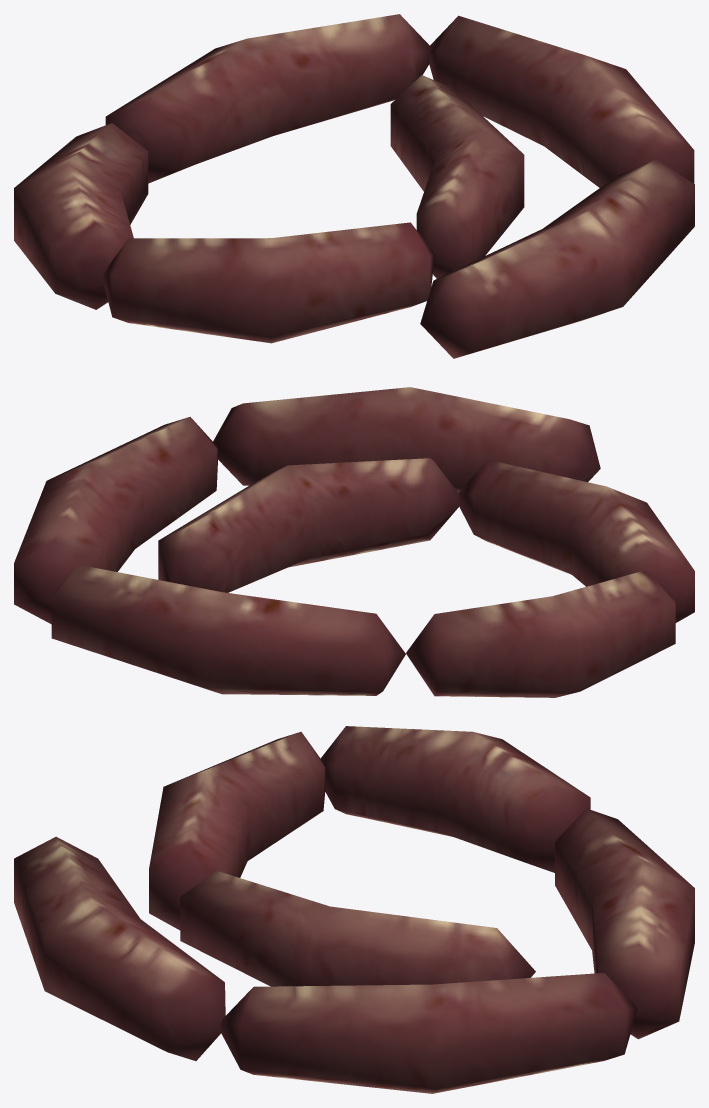
File: sausages2.fbx
The picture shows the model from 3 angles, top to bottom: view 1: azimuth 30°, elevation 25°; view 2: azimuth 150°, elevation 25°; view 3: azimuth 270°, elevation 25°; orthographic projection. The views are drawn at different scales.
Parts seen in each view (by area): view 1: sausages2; view 2: sausages2; view 3: sausages2.
Part boxes in pixels (x1,y1,x2,y2): sausages2: [14, 14, 694, 358]; sausages2: [14, 387, 694, 697]; sausages2: [14, 726, 694, 1093].
Bounding box in the file's own units: 53.51 × 8.82 × 49.79.
